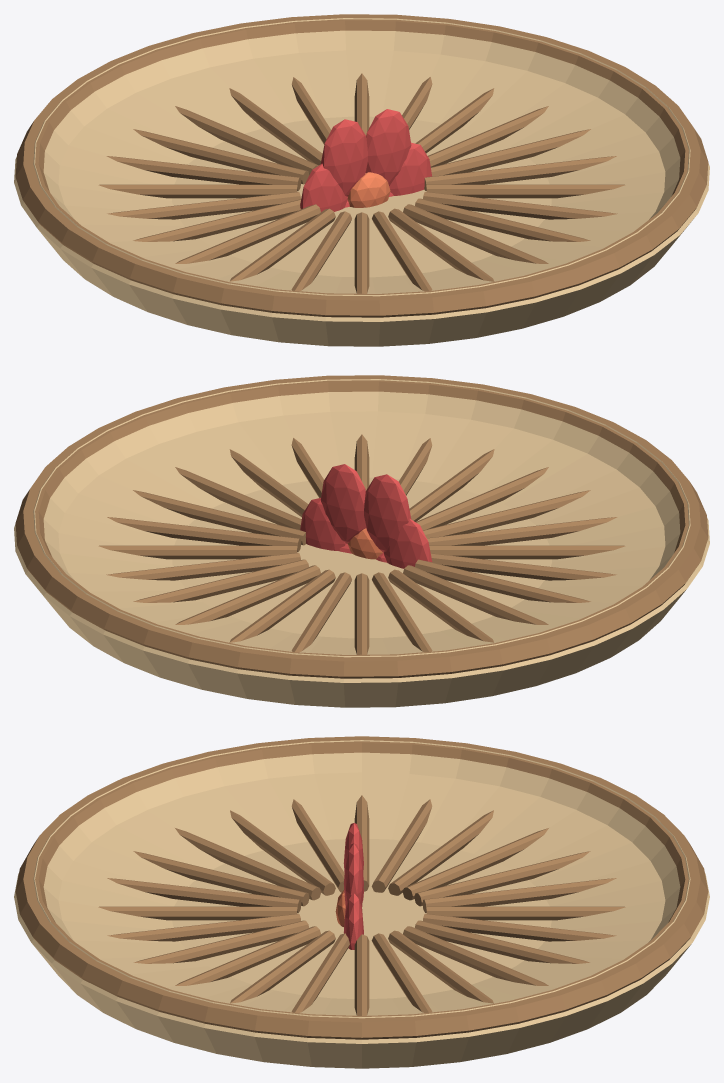
The model's file is woodwork_obon.glb.
3 views of the same model, one above another, from view 1: azimuth 30°, elevation 25°; view 2: azimuth 150°, elevation 25°; view 3: azimuth 270°, elevation 25° (orthographic).
Visible parts, largest first — view 1: Turned carved wooden serving tray, Ornamental obon raised edge, Tray engraved blossom_petal01, Tray engraved blossom_petal02, Visible natural cedar grain10, Visible natural cedar grain22, Visible natural cedar grain9, Visible natural cedar grain21, Visible natural cedar grain11, Visible natural cedar grain23, Visible natural cedar grain8, Visible natural cedar grain20 (+19 smaller); view 2: Turned carved wooden serving tray, Ornamental obon raised edge, Tray engraved blossom_petal01, Tray engraved blossom_petal02, Visible natural cedar grain2, Visible natural cedar grain14, Visible natural cedar grain3, Visible natural cedar grain1, Visible natural cedar grain15, Visible natural cedar grain13, Visible natural cedar grain4, Visible natural cedar grain12 (+19 smaller); view 3: Turned carved wooden serving tray, Ornamental obon raised edge, Visible natural cedar grain6, Visible natural cedar grain18, Visible natural cedar grain5, Visible natural cedar grain19, Visible natural cedar grain7, Visible natural cedar grain17, Visible natural cedar grain8, Visible natural cedar grain16, Visible natural cedar grain4, Visible natural cedar grain20 (+16 smaller).
Part boxes in pixels (x1=…): Turned carved wooden serving tray: x1=14, y1=18, x2=709, y2=346; Ornamental obon raised edge: x1=15, y1=14, x2=708, y2=317; Tray engraved blossom_petal01: x1=366, y1=109, x2=411, y2=185; Tray engraved blossom_petal02: x1=320, y1=119, x2=367, y2=196; Visible natural cedar grain10: x1=98, y1=184, x2=297, y2=198; Visible natural cedar grain22: x1=426, y1=184, x2=625, y2=198; Visible natural cedar grain9: x1=106, y1=156, x2=301, y2=190; Visible natural cedar grain21: x1=423, y1=192, x2=617, y2=219; Visible natural cedar grain11: x1=107, y1=192, x2=300, y2=219; Visible natural cedar grain23: x1=424, y1=156, x2=616, y2=190; Visible natural cedar grain8: x1=133, y1=129, x2=309, y2=184; Visible natural cedar grain20: x1=415, y1=198, x2=590, y2=241; Turned carved wooden serving tray: x1=14, y1=379, x2=709, y2=707; Ornamental obon raised edge: x1=15, y1=375, x2=708, y2=678; Tray engraved blossom_petal01: x1=320, y1=464, x2=365, y2=543; Tray engraved blossom_petal02: x1=364, y1=474, x2=411, y2=552; Visible natural cedar grain2: x1=98, y1=545, x2=297, y2=559; Visible natural cedar grain14: x1=429, y1=545, x2=625, y2=559; Visible natural cedar grain3: x1=106, y1=553, x2=300, y2=580; Visible natural cedar grain1: x1=107, y1=517, x2=301, y2=551; Visible natural cedar grain15: x1=427, y1=517, x2=617, y2=545; Visible natural cedar grain13: x1=430, y1=553, x2=616, y2=580; Visible natural cedar grain4: x1=133, y1=559, x2=308, y2=602; Visible natural cedar grain12: x1=415, y1=559, x2=590, y2=602; Turned carved wooden serving tray: x1=14, y1=740, x2=709, y2=1068; Ornamental obon raised edge: x1=15, y1=736, x2=708, y2=1039; Visible natural cedar grain6: x1=426, y1=906, x2=625, y2=920; Visible natural cedar grain18: x1=98, y1=906, x2=297, y2=920; Visible natural cedar grain5: x1=423, y1=913, x2=616, y2=941; Visible natural cedar grain19: x1=107, y1=913, x2=300, y2=941; Visible natural cedar grain7: x1=422, y1=878, x2=616, y2=912; Visible natural cedar grain17: x1=107, y1=878, x2=301, y2=912; Visible natural cedar grain8: x1=414, y1=851, x2=590, y2=906; Visible natural cedar grain16: x1=133, y1=851, x2=309, y2=906; Visible natural cedar grain4: x1=415, y1=920, x2=589, y2=963; Visible natural cedar grain20: x1=134, y1=920, x2=308, y2=963.
Size of the model in its own units: 1.95 by 0.4851 by 1.95.
